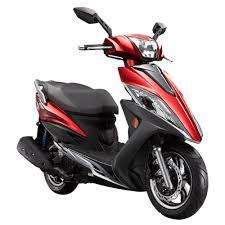motorcycle: (10, 4, 210, 219)
